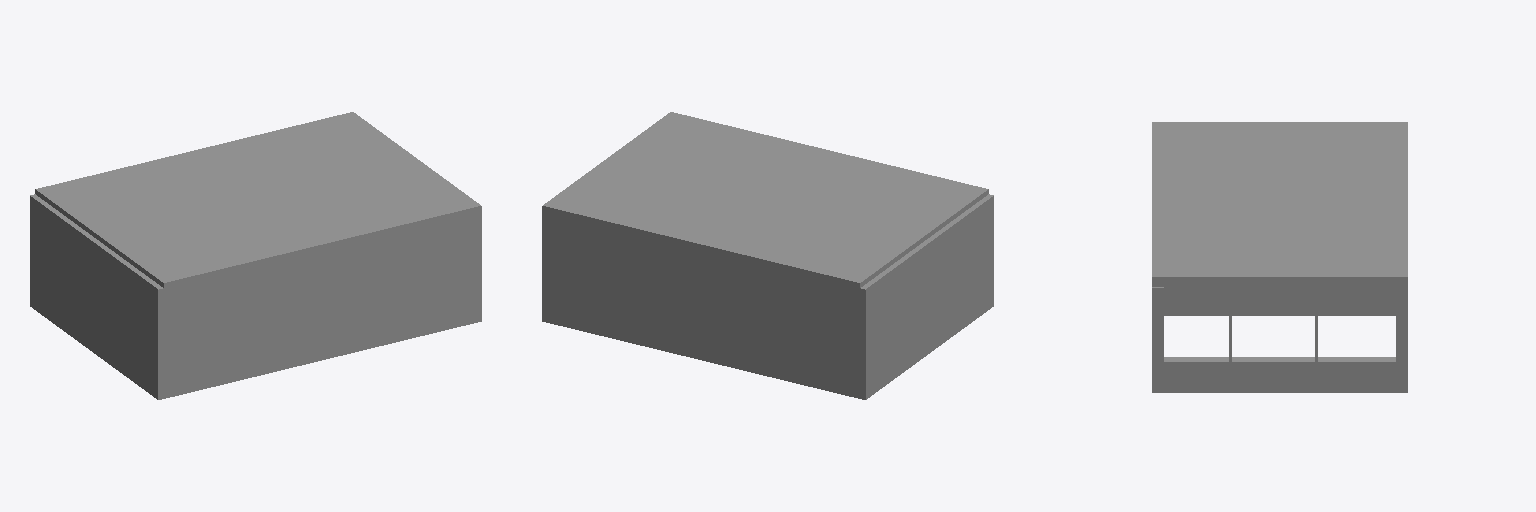
File: room2.obj
The picture shows the model from 3 angles: view 1: azimuth 30°, elevation 25°; view 2: azimuth 150°, elevation 25°; view 3: azimuth 270°, elevation 25°; orthographic projection.
Parts seen in each view (by area): view 1: top_Cube.024, wall3_Cube.016, wall1_Cube.010; view 2: top_Cube.024, wall2_Cube.015, wall1_Cube.010; view 3: top_Cube.024, wall4_bottom_Cube.003_Cube.017, wall4_top_Cube.004_Cube.020, wall3_Cube.016, wall2_Cube.015.
Boxes of the visible parts, x1=… form: top_Cube.024: x1=35, y1=112, x2=481, y2=293; wall3_Cube.016: x1=164, y1=216, x2=481, y2=398; wall1_Cube.010: x1=30, y1=194, x2=168, y2=399; top_Cube.024: x1=542, y1=112, x2=988, y2=293; wall2_Cube.015: x1=542, y1=217, x2=859, y2=398; wall1_Cube.010: x1=858, y1=194, x2=993, y2=399; top_Cube.024: x1=1152, y1=122, x2=1407, y2=287; wall4_bottom_Cube.003_Cube.017: x1=1164, y1=357, x2=1395, y2=392; wall4_top_Cube.004_Cube.020: x1=1164, y1=286, x2=1395, y2=315; wall3_Cube.016: x1=1152, y1=287, x2=1163, y2=392; wall2_Cube.015: x1=1396, y1=287, x2=1407, y2=392.
Bounding box in the file's own units: 3.05 × 1.05 × 2.1.